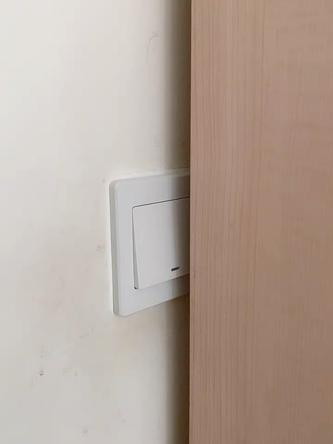switch: (128, 185, 189, 291)
